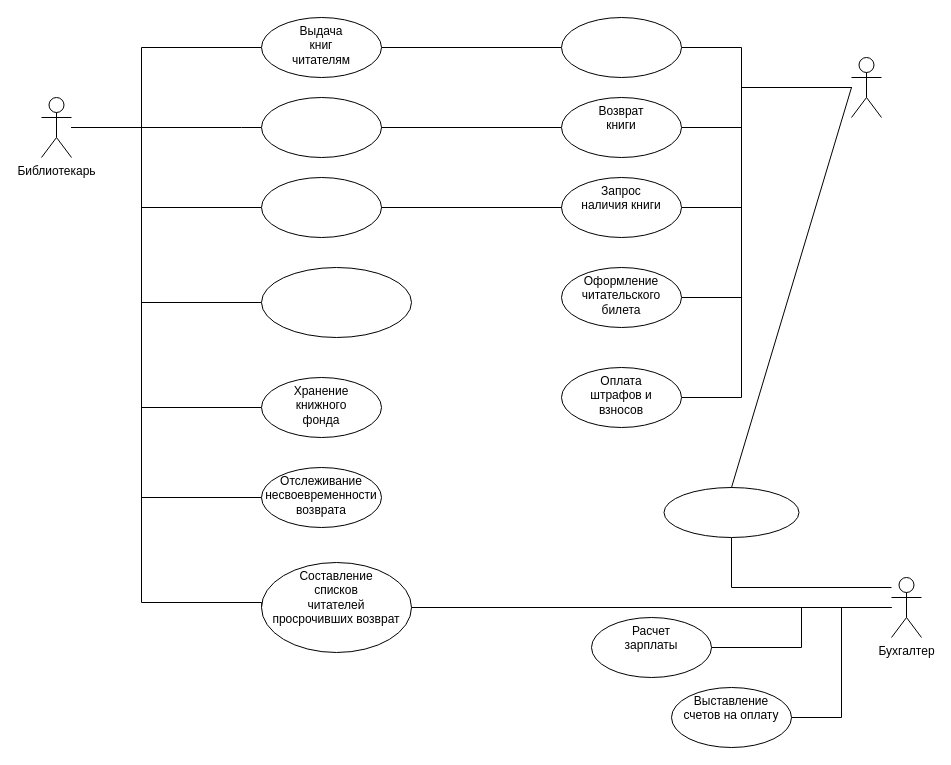
This 951x765 diagram has some shape labels left out. The shapes that lost their labels are listed below. From the top down, each one's box as (x1, y1, x2, y2) in pixels, then its label:
(560, 16, 682, 78): Получение книги
(850, 56, 882, 118): Читатель
(260, 96, 382, 158): Получение книг от читателей
(260, 176, 382, 238): Поиск книг по запросу читателей
(260, 266, 412, 338): Составление списка недостающей литературы
(663, 486, 799, 538): Отправка сообщений
